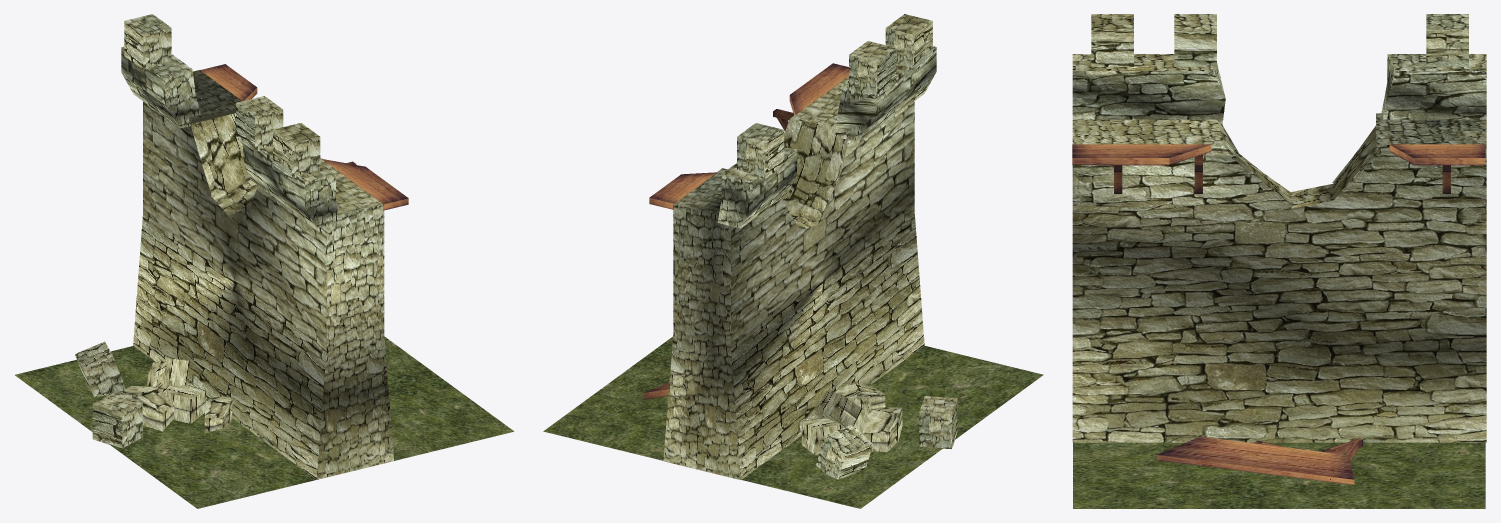
File: Wall1desA.obj
3 views of the same model, side by side, from view 1: azimuth 30°, elevation 25°; view 2: azimuth 150°, elevation 25°; view 3: azimuth 270°, elevation 25° (orthographic). The views are drawn at different scales.
Parts seen in each view (by area): view 1: Box326, Plane09, Mesh02, Box339, Box262, Box342, Box344, Box345, Box341, Box343, Box264, Box352 (+4 smaller); view 2: Box326, Plane09, Mesh02, Box339, Box262, Box341, Box345, Box343, Box344, Box342, Box352, Box264 (+4 smaller); view 3: Box326, Plane09, Box339, Box262, Box269, Box264, Mesh02, Box341, Box344, Box345, Box340.
Part boxes in pixels (x1,y1,x2,y2): Box326: (133,70,393,479); Plane09: (15,336,513,508); Mesh02: (190,113,257,217); Box339: (242,143,338,228); Box262: (121,46,200,128); Box342: (92,393,142,448); Box344: (273,123,320,178); Box345: (124,14,171,69); Box341: (236,96,283,151); Box343: (75,341,125,396); Box264: (322,159,408,210); Box352: (118,386,174,431); Box326: (663,76,924,479); Plane09: (543,336,1043,508); Mesh02: (782,118,848,230); Box339: (835,46,936,142); Box262: (717,147,796,228); Box341: (849,41,896,96); Box345: (737,123,784,178); Box343: (815,425,872,479); Box344: (885,14,932,69); Box342: (919,396,957,448); Box352: (862,407,902,451); Box264: (789,63,848,115); Box326: (1072,113,1486,442); Plane09: (1073,442,1485,508); Box339: (1072,54,1225,126); Box262: (1381,54,1486,119); Box269: (1156,436,1354,484); Box264: (1072,144,1211,165); Mesh02: (1217,120,1379,208); Box341: (1174,14,1216,69); Box344: (1091,14,1133,66); Box345: (1426,14,1468,66); Box340: (1389,144,1485,165).
Size of the model in its own units: 77.55 by 77.75 by 76.32.
